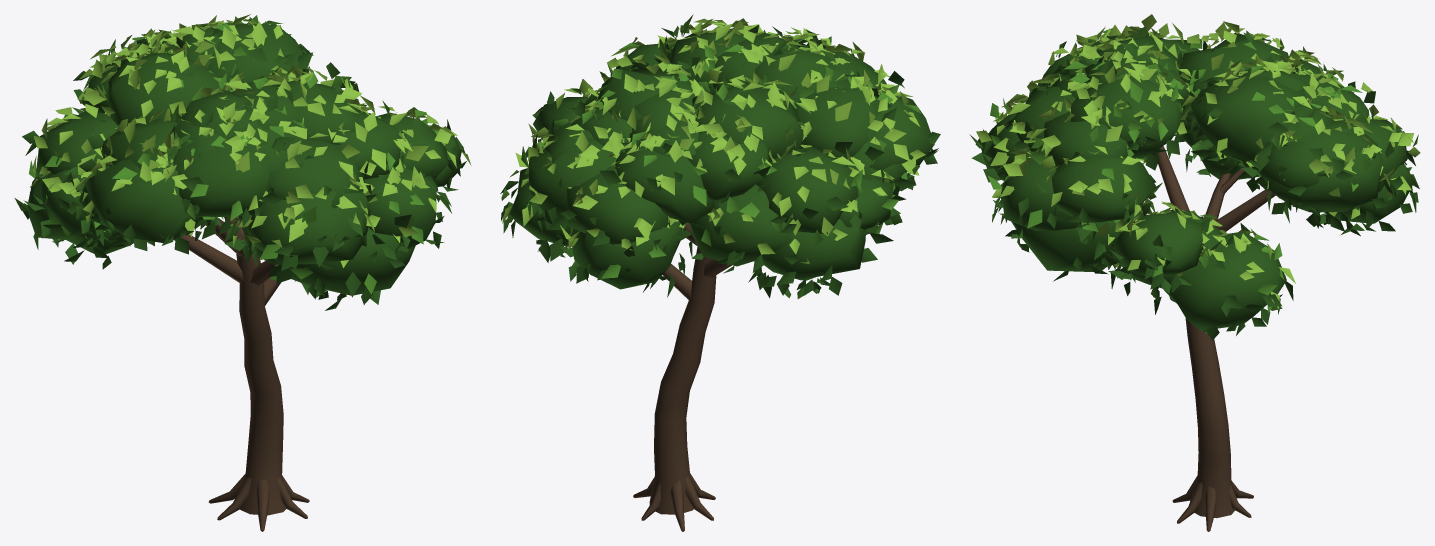
The model's file is PLANT_Tree_Broadleaf_LG.glb.
3 views of the same model, side by side, from view 1: azimuth 30°, elevation 25°; view 2: azimuth 150°, elevation 25°; view 3: azimuth 270°, elevation 25° (orthographic). The views are drawn at different scales.
Parts seen in each view (by area): view 1: PLANT_Tree_Broadleaf_LG; view 2: PLANT_Tree_Broadleaf_LG; view 3: PLANT_Tree_Broadleaf_LG.
Part boxes in pixels (x1,y1,x2,y2): PLANT_Tree_Broadleaf_LG: (14,14,471,531); PLANT_Tree_Broadleaf_LG: (500,14,940,531); PLANT_Tree_Broadleaf_LG: (969,14,1420,531).
Size of the model in its own units: 8.13 by 9.29 by 8.53.
